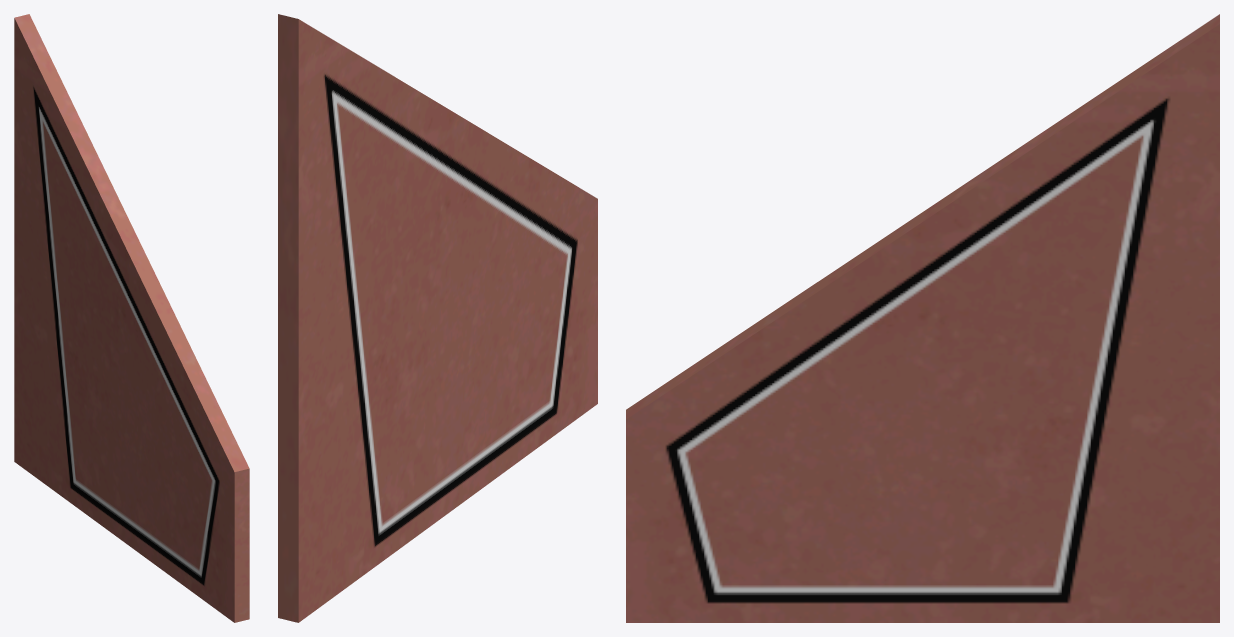
File: SM_TopWall01C.fbx
3 renders of one model, left to right at view 1: azimuth 30°, elevation 25°; view 2: azimuth 150°, elevation 25°; view 3: azimuth 270°, elevation 25°, orthographic. The views are drawn at different scales.
Visible parts, largest first — view 1: SM_TopWall01C; view 2: SM_TopWall01C; view 3: SM_TopWall01C.
Part boxes in pixels (x1,y1,x2,y2): SM_TopWall01C: (14, 14, 249, 622); SM_TopWall01C: (278, 14, 597, 622); SM_TopWall01C: (626, 14, 1219, 622).
Bounding box in the file's own units: 3.38 × 85.4 × 95.05.
